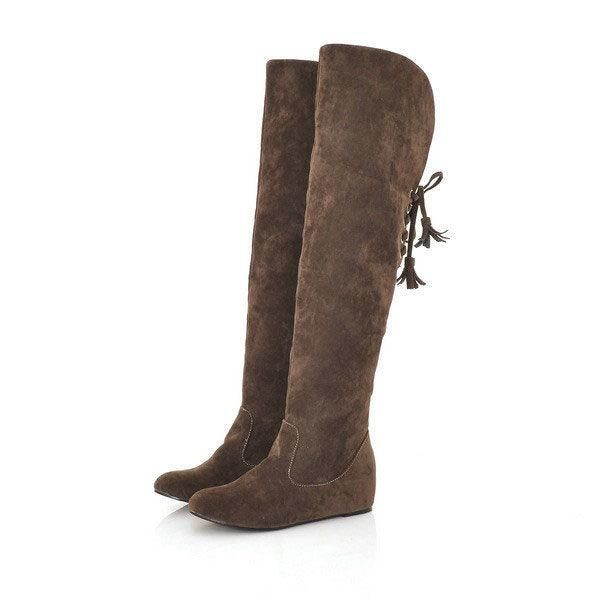gamuza: (153, 44, 435, 531)
